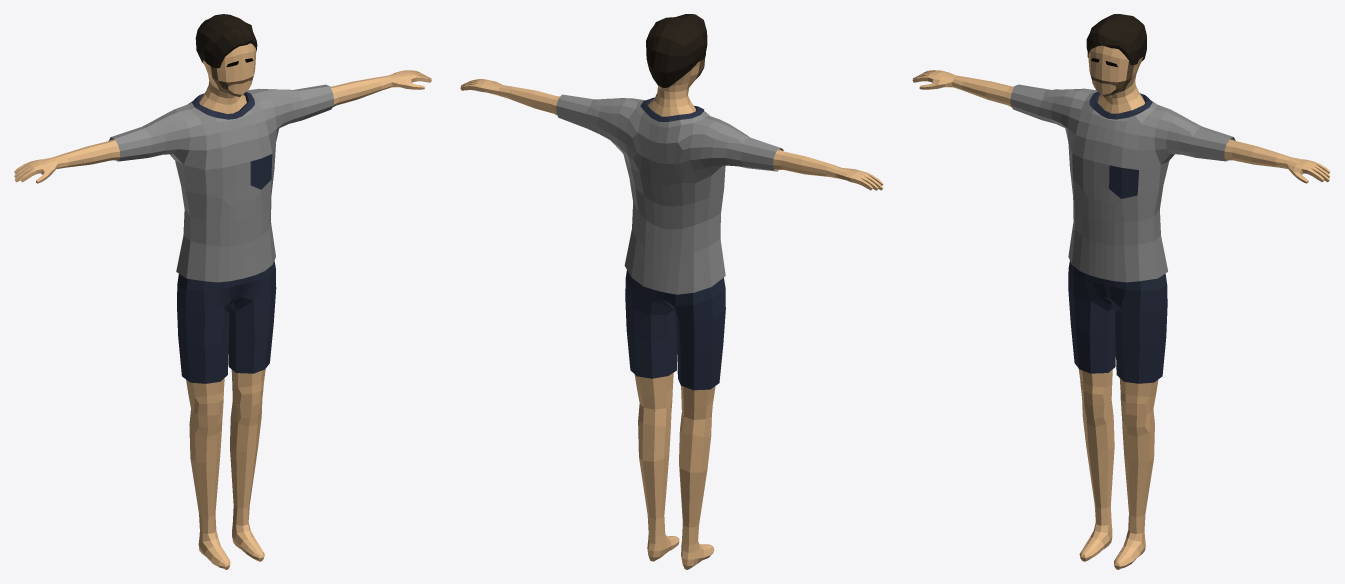
The model's file is ManCasual.obj.
3 renders of one model, left to right at view 1: azimuth 30°, elevation 25°; view 2: azimuth 150°, elevation 25°; view 3: azimuth 330°, elevation 25°, orthographic.
Parts seen in each view (by area): view 1: ManCasual; view 2: ManCasual; view 3: ManCasual.
Part boxes in pixels (x1,y1,x2,y2): ManCasual: [14, 14, 431, 569]; ManCasual: [460, 14, 883, 569]; ManCasual: [912, 14, 1330, 569].
Size of the model in its own units: 1.4 by 1.72 by 0.2104.
